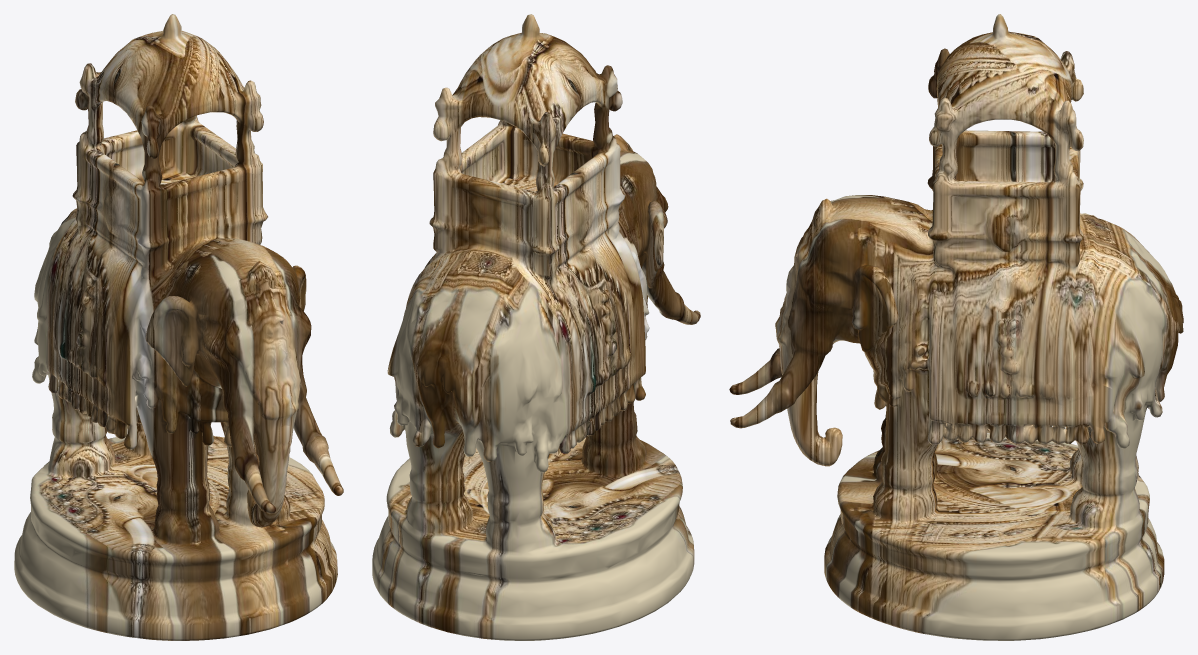
File: gaja.glb
3 views of the same model, side by side, from view 1: azimuth 30°, elevation 25°; view 2: azimuth 150°, elevation 25°; view 3: azimuth 270°, elevation 25° (orthographic).
Visible parts, largest first — view 1: geometry_0; view 2: geometry_0; view 3: geometry_0.
Part boxes in pixels (box(x1,y1,x2,y2)): geometry_0: box(14, 14, 343, 640); geometry_0: box(372, 14, 700, 640); geometry_0: box(729, 14, 1183, 640).
Size of the model in its own units: 1.01 by 1.96 by 1.44.
1 material, 1 textured.
